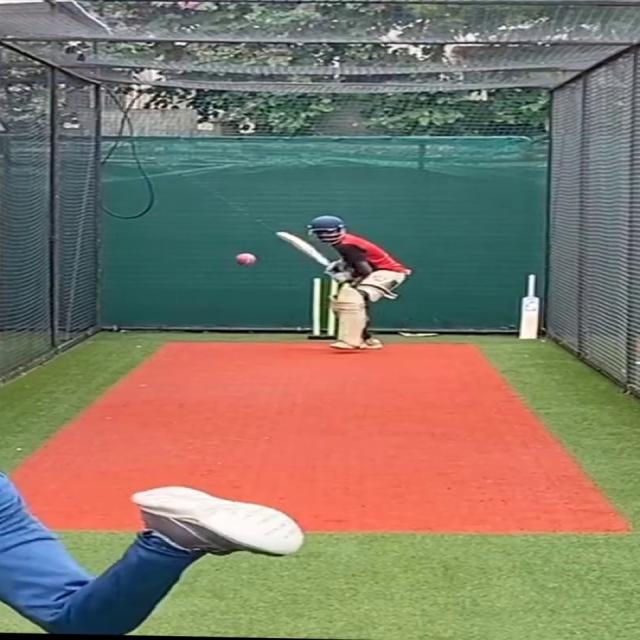ball: (231, 249, 260, 268)
stump: (301, 272, 339, 342)
